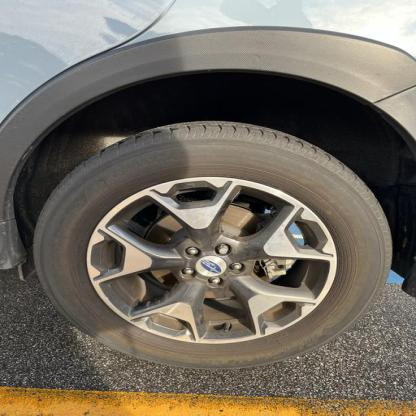Tire: (34, 121, 393, 367)
